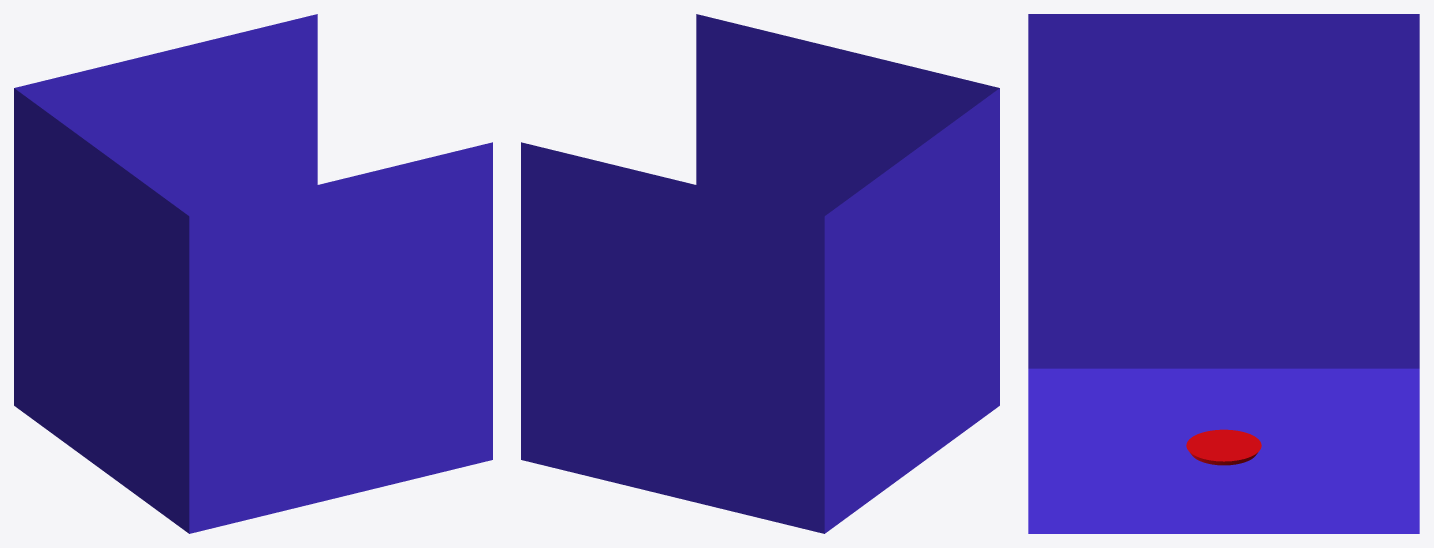
File: GARAGE.fbx
The picture shows the model from 3 angles, left to right: view 1: azimuth 30°, elevation 25°; view 2: azimuth 150°, elevation 25°; view 3: azimuth 270°, elevation 25°; orthographic projection. The views are drawn at different scales.
Parts seen in each view (by area): view 1: Cube; view 2: Cube; view 3: Cube, Circle.
Part boxes in pixels (x1,y1,x2,y2): Cube: (14, 14, 492, 533); Cube: (521, 14, 999, 533); Cube: (1028, 14, 1419, 533); Circle: (1186, 429, 1261, 465).
Size of the model in its own units: 1236 by 1237 by 1236.
